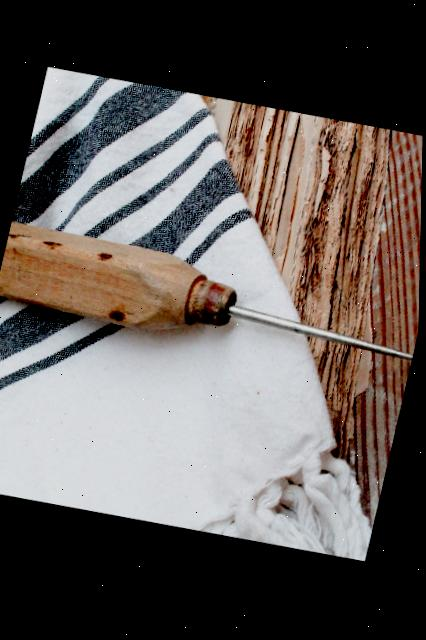ice pick: (0, 212, 422, 393)
